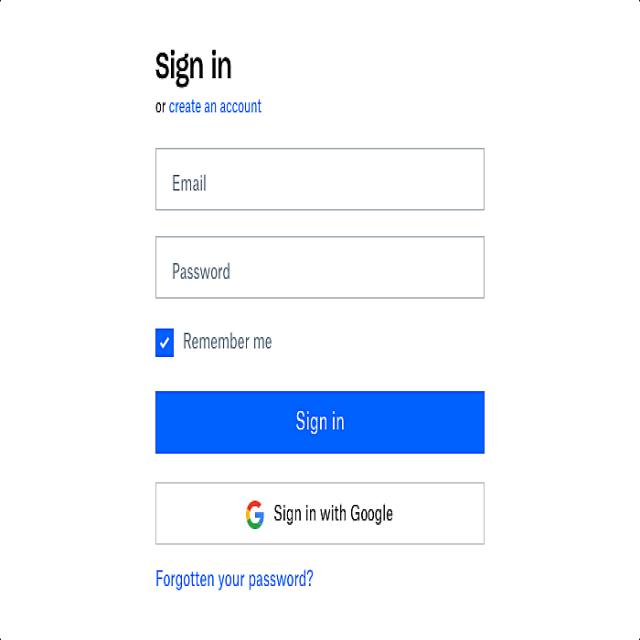Button: (150, 475, 492, 558), (152, 388, 488, 466)
Check-box: (153, 324, 277, 360)
Input-field: (152, 231, 488, 310), (152, 140, 491, 217)
Text: (151, 48, 237, 92), (154, 98, 268, 120)
